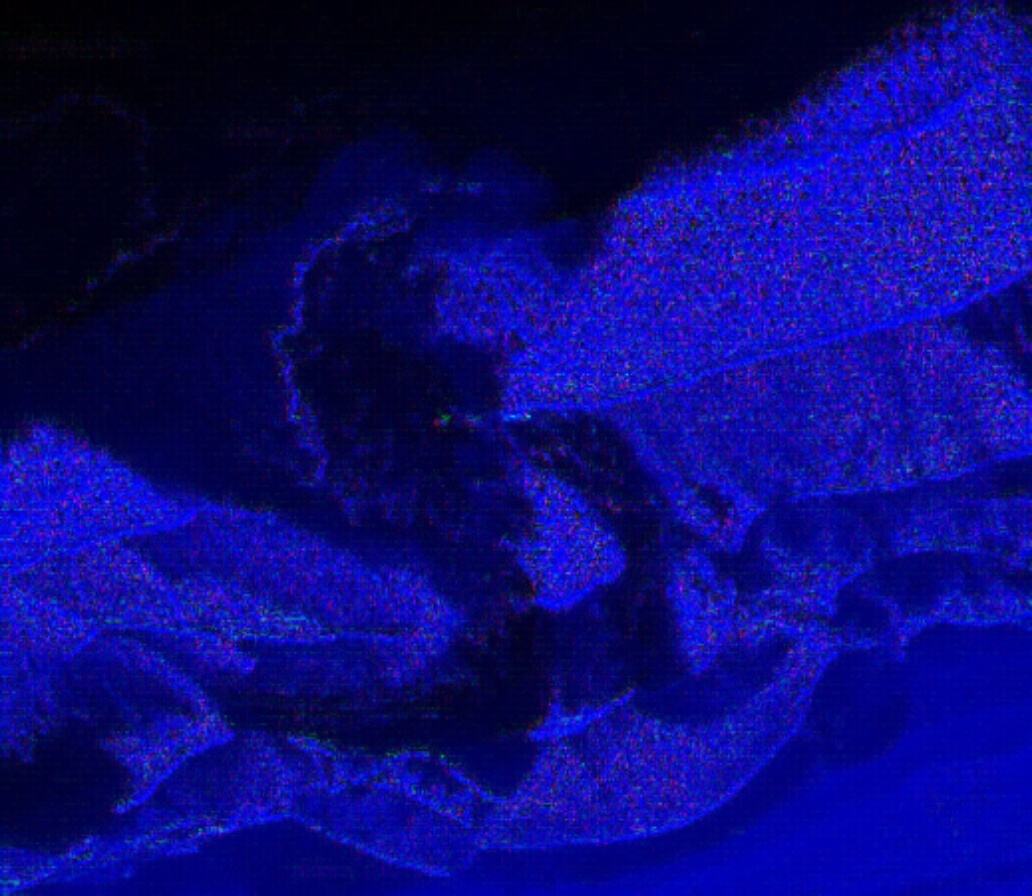rip_current: (257, 143, 670, 755)
